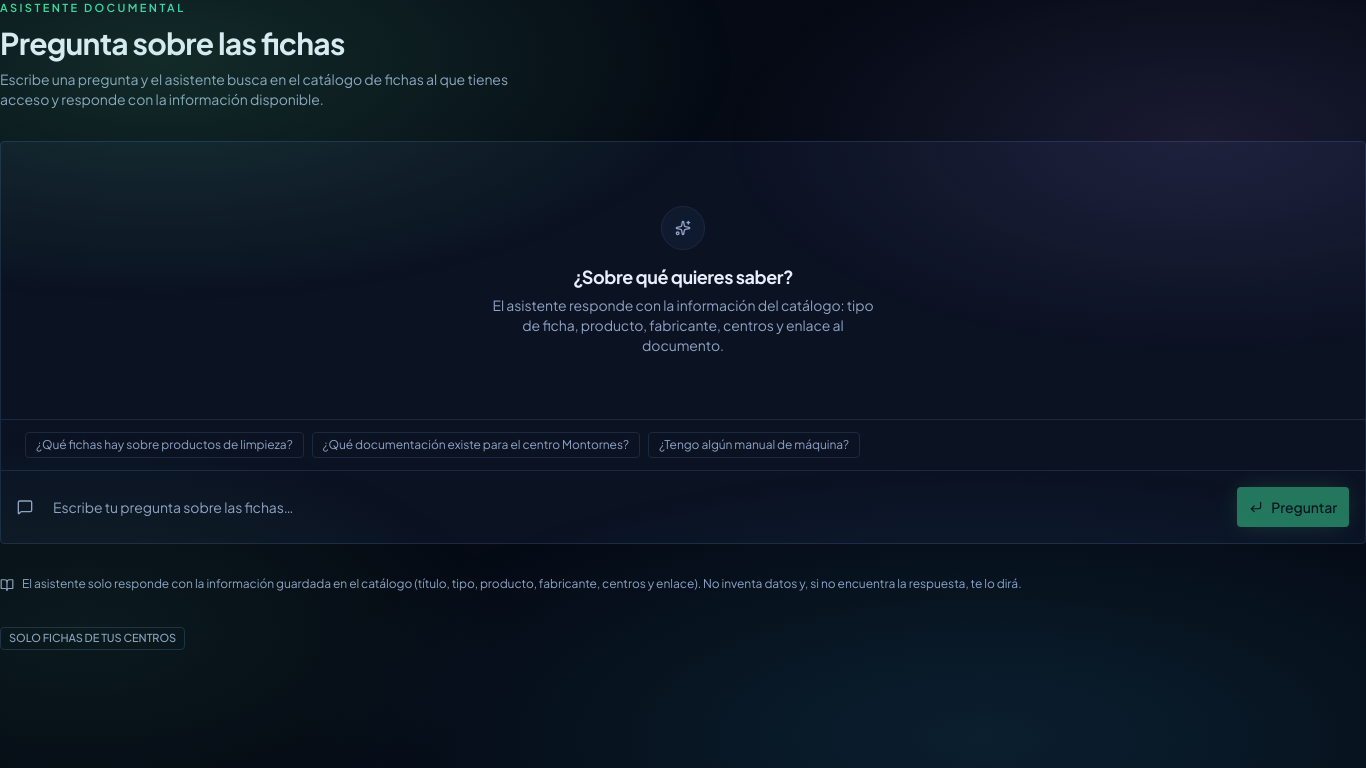
Test case: AsistenteSection › avisa cuando el usuario no tiene fichas
Click the button "¿Tengo algún manual de máquina?": [754, 445] box [648, 432, 860, 458]
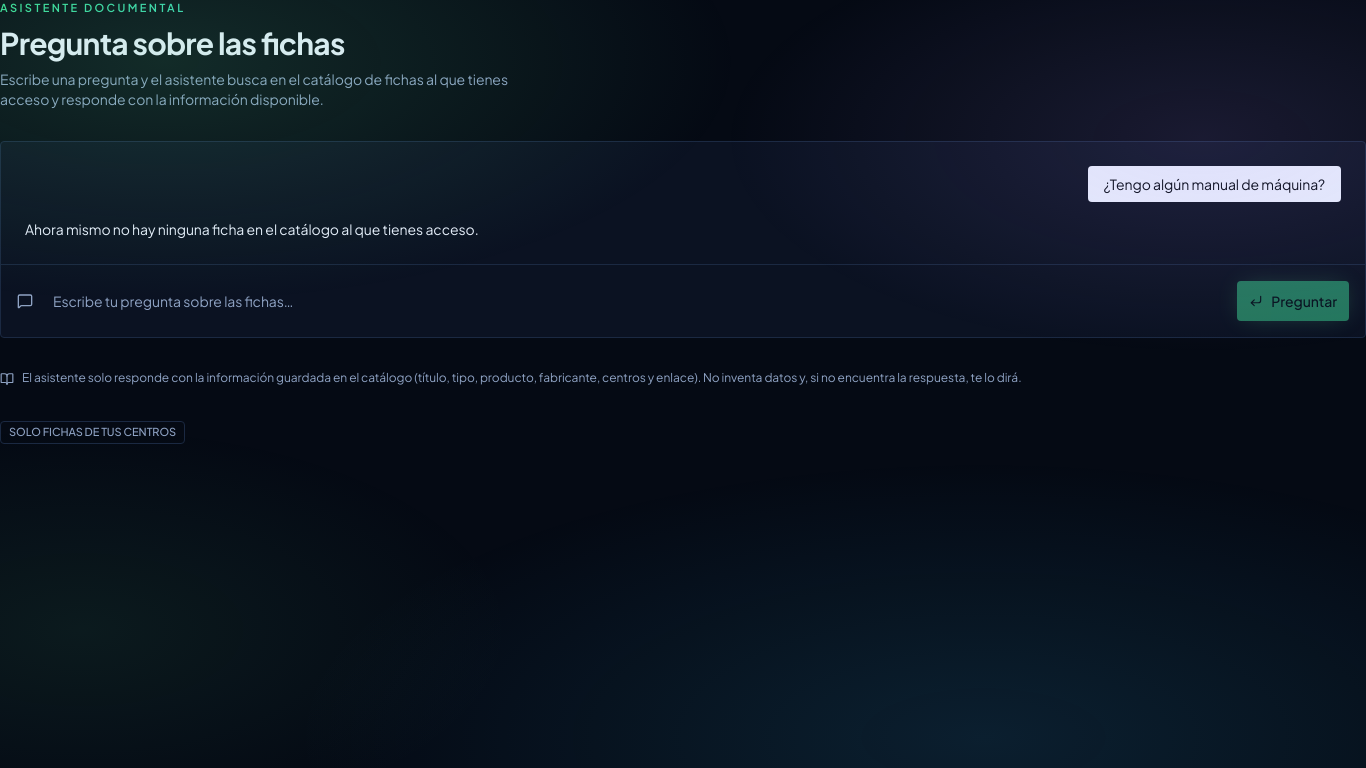
expect the text "no hay ninguna ficha" is shown: met, box [25, 220, 479, 238]
